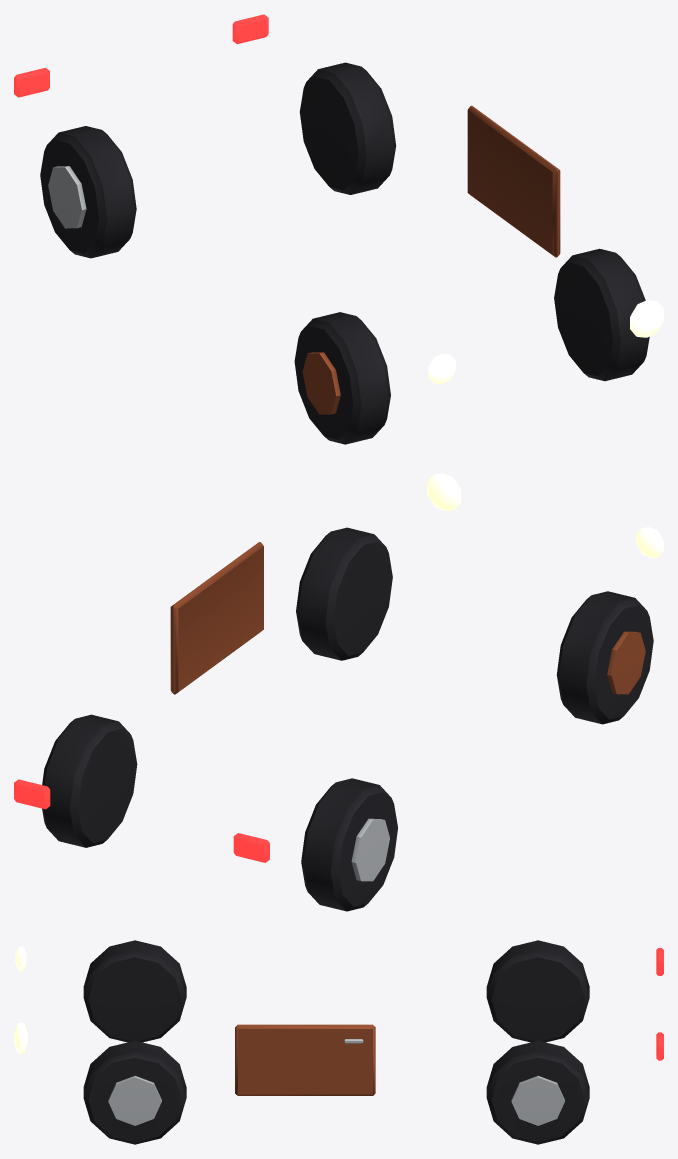
Rendered from veh_sedan_lod1.glb.
3 views of the same model, one above another, from view 1: azimuth 30°, elevation 25°; view 2: azimuth 150°, elevation 25°; view 3: azimuth 270°, elevation 25° (orthographic). The views are drawn at different scales.
Parts seen in each view (by area): view 1: wheel_FR, wheel_RL, wheel_RR, wheel_FL, door, glow; view 2: wheel_FR, wheel_FL, wheel_RR, wheel_RL, door, glow; view 3: door, wheel_FL, wheel_RL, wheel_FR, wheel_RR, glow.
Part boxes in pixels (bbox=[...]): wheel_FR: bbox=[294, 312, 390, 444]; wheel_RL: bbox=[299, 62, 396, 194]; wheel_RR: bbox=[40, 126, 136, 258]; wheel_FL: bbox=[554, 248, 649, 381]; door: bbox=[467, 105, 560, 257]; glow: bbox=[14, 14, 663, 383]; wheel_FR: bbox=[556, 591, 653, 724]; wheel_FL: bbox=[296, 527, 392, 660]; wheel_RR: bbox=[301, 778, 397, 911]; wheel_RL: bbox=[42, 714, 137, 847]; door: bbox=[170, 542, 263, 694]; glow: bbox=[14, 473, 663, 862]; door: bbox=[235, 1024, 375, 1095]; wheel_FL: bbox=[83, 1040, 186, 1144]; wheel_RL: bbox=[486, 1040, 589, 1144]; wheel_FR: bbox=[83, 940, 186, 1042]; wheel_RR: bbox=[486, 940, 589, 1042]; glow: bbox=[14, 946, 663, 1060].
Size of what is drawn, in the model's own units: 1.81 by 0.86 by 4.16.
